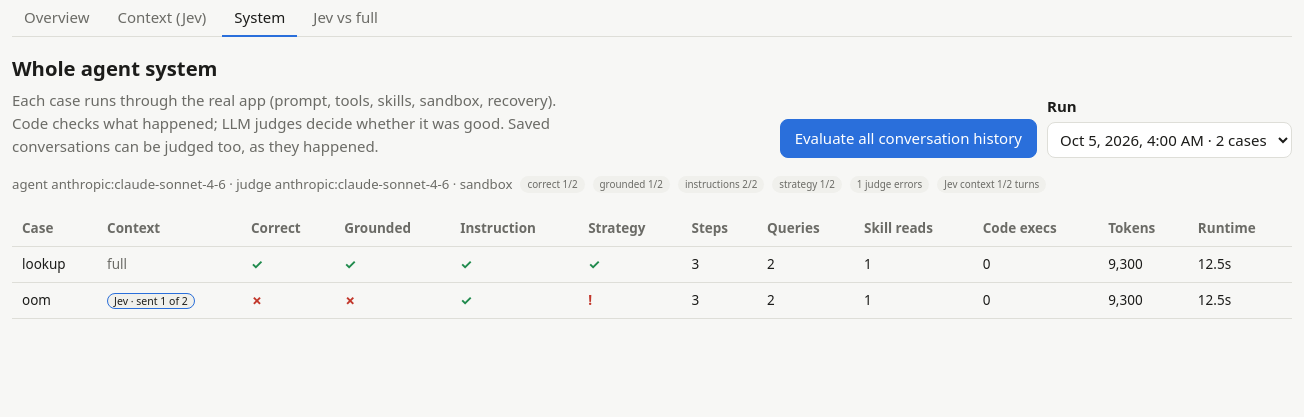
Test: System eval › judges all conversation history after asking first
Click the button "Evaluate all conversation history" at {"x": 908, "y": 139}, box [780, 119, 1037, 158]
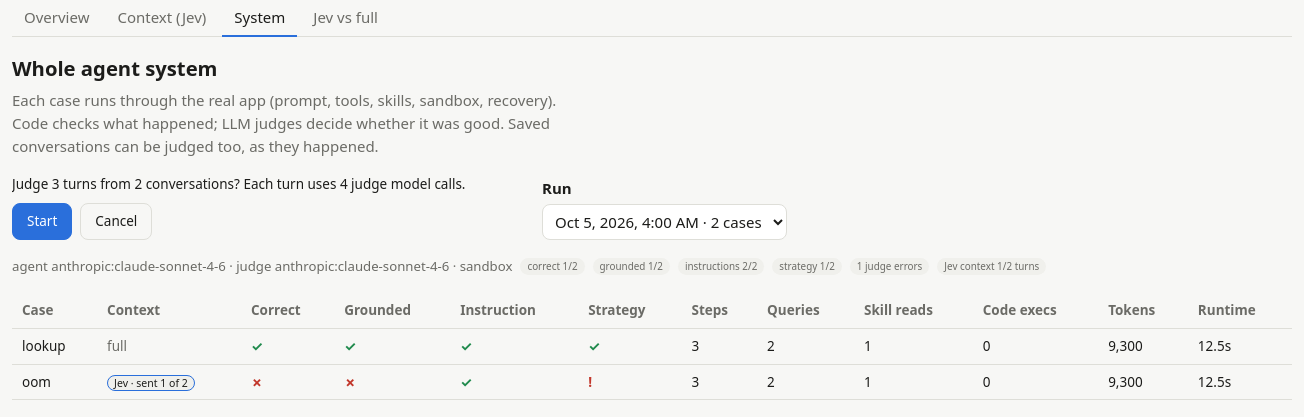
Check: the element named "Confirm evaluation" shows "Judge 3 turns from 2 conversations?", box [12, 174, 532, 240]
Click the button "Start" at {"x": 42, "y": 222}, box [12, 203, 72, 240]
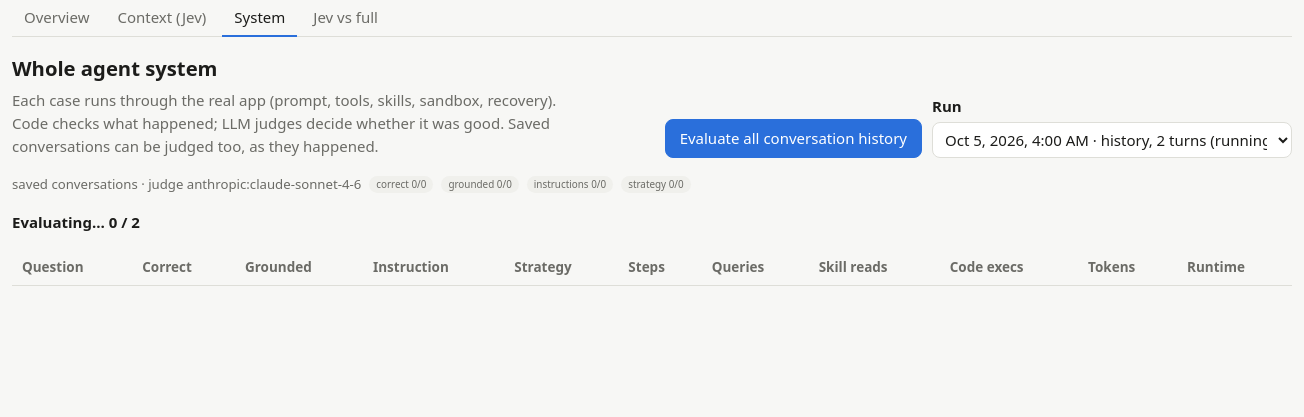
Check: the message reads "Evaluating… 0 / 2", box [12, 212, 140, 232]
Check: the column heading "Question" is shown, box [12, 250, 132, 286]
